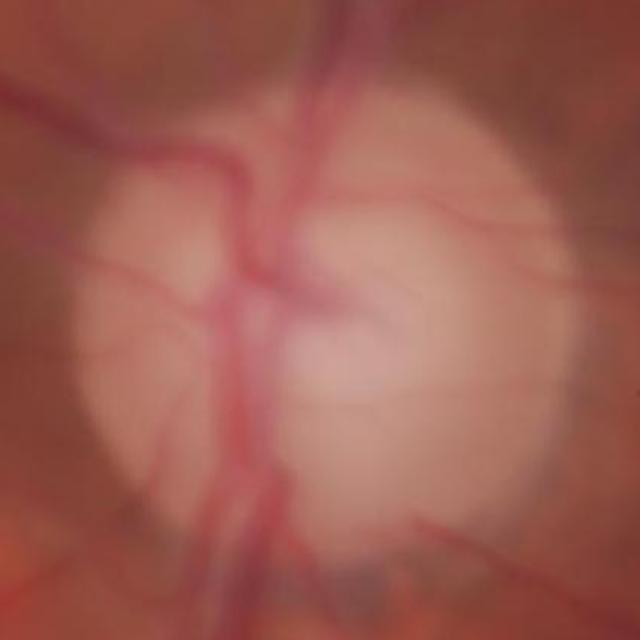OC: (234, 199, 484, 409)
OD: (68, 74, 576, 554)
